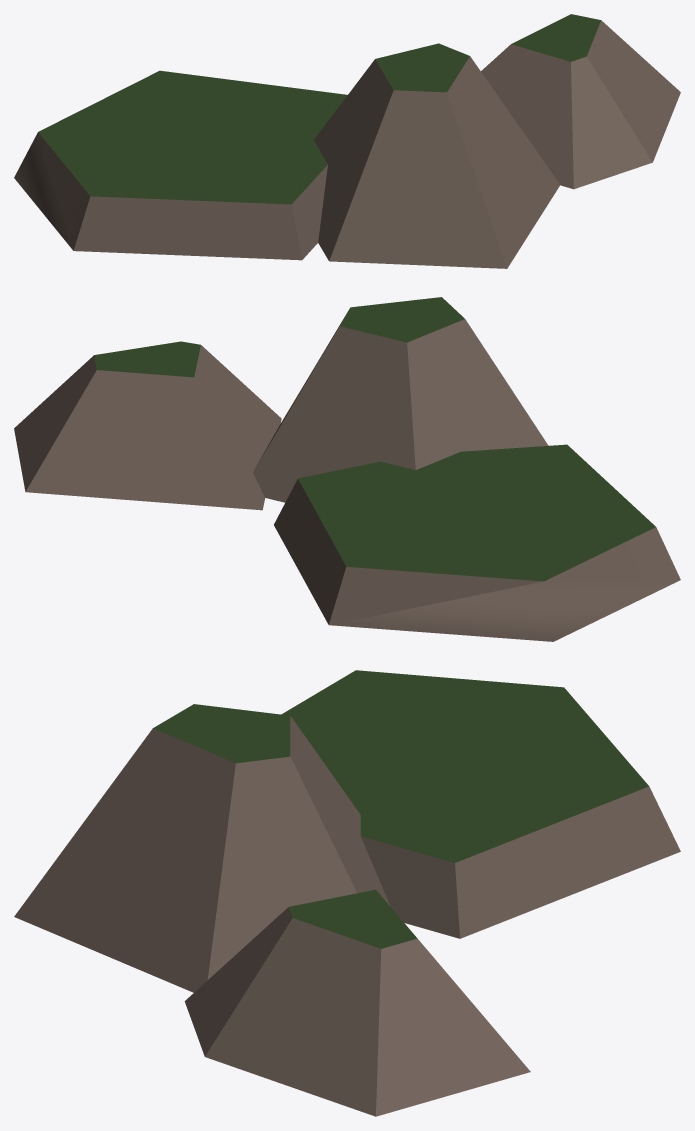
Rendered from rocks_small.glb.
3 renders of one model, top to bottom at view 1: azimuth 30°, elevation 25°; view 2: azimuth 150°, elevation 25°; view 3: azimuth 270°, elevation 25°, orthographic. The views are drawn at different scales.
Parts seen in each view (by area): view 1: rocks_small; view 2: rocks_small; view 3: rocks_small.
Part boxes in pixels (bbox=[...]): rocks_small: bbox=[14, 14, 680, 268]; rocks_small: bbox=[14, 297, 680, 641]; rocks_small: bbox=[14, 670, 680, 1116].
Bounding box in the file's own units: 2.66 × 0.5737 × 1.89.
